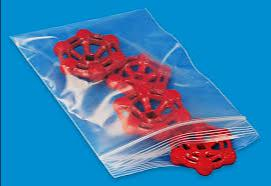Plastic: (8, 6, 261, 178)
